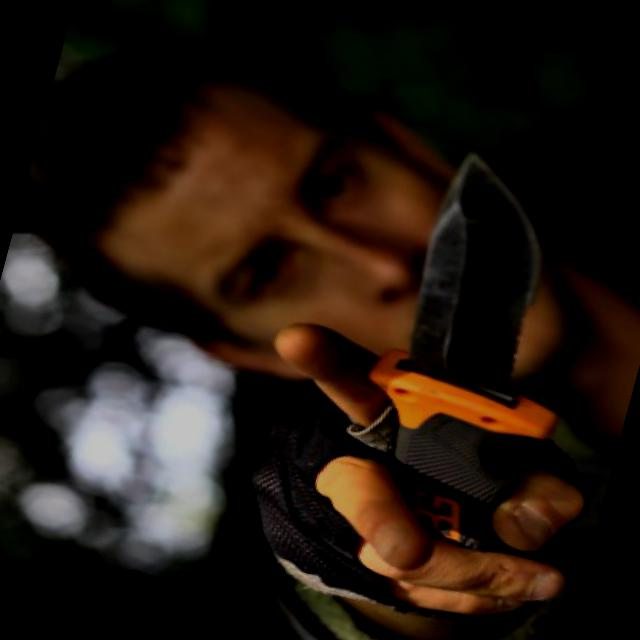knife: (318, 116, 616, 594)
